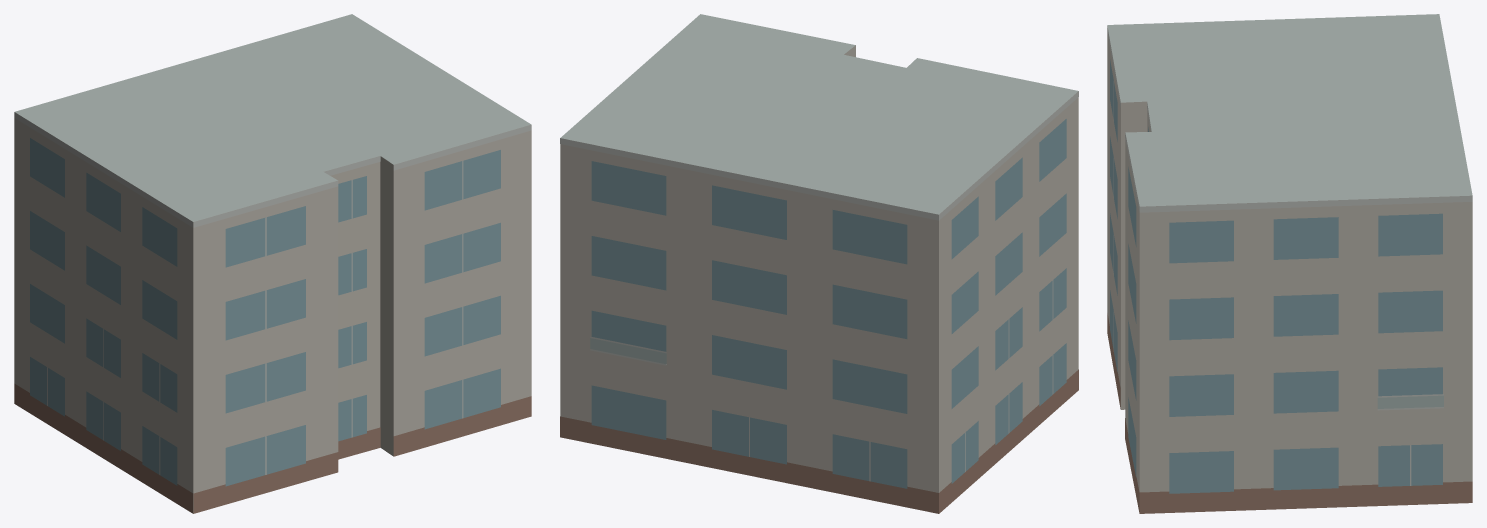
File: survey-upis-32981749.glb
3 views of the same model, side by side, from view 1: azimuth 30°, elevation 25°; view 2: azimuth 150°, elevation 25°; view 3: azimuth 270°, elevation 25° (orthographic). The views are drawn at different scales.
Parts seen in each view (by area): view 1: survey-upis-32981749.tmp; view 2: survey-upis-32981749.tmp; view 3: survey-upis-32981749.tmp.
Part boxes in pixels (<box>): survey-upis-32981749.tmp: <box>14,14,531,513</box>; survey-upis-32981749.tmp: <box>560,14,1078,513</box>; survey-upis-32981749.tmp: <box>1107,14,1472,513</box>.
Bounding box in the file's own units: 16.42 × 12.2 × 13.16.
